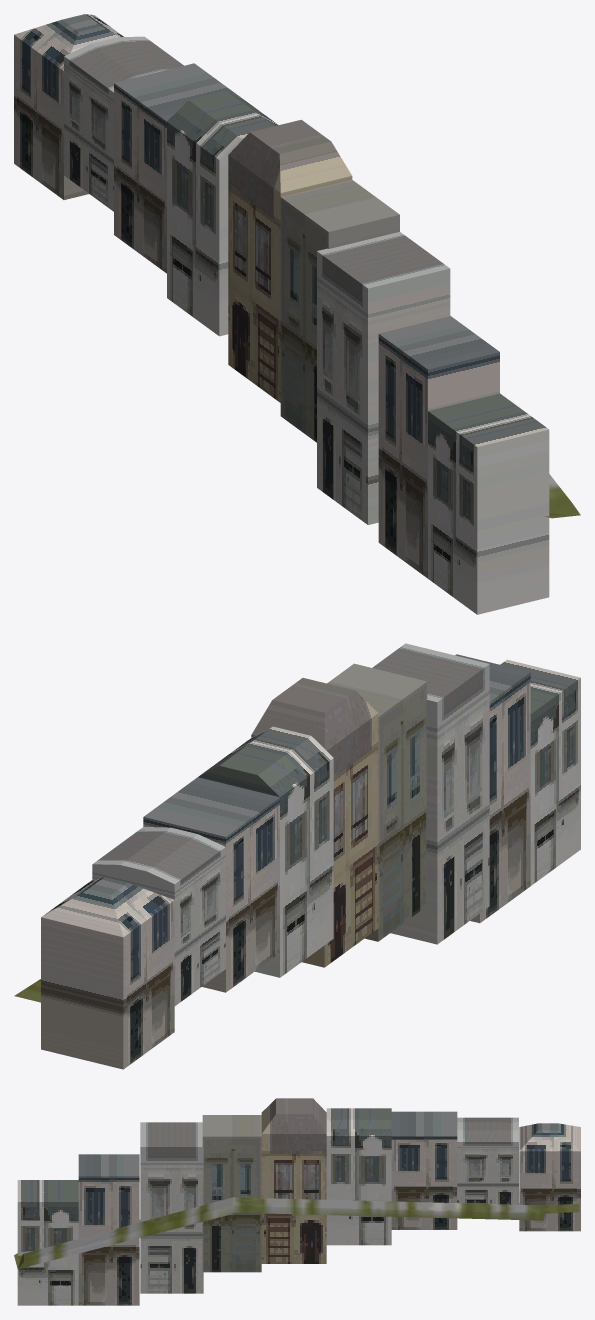
File: lodxbld4_sfw72.obj
The picture shows the model from 3 angles, top to bottom: view 1: azimuth 30°, elevation 25°; view 2: azimuth 150°, elevation 25°; view 3: azimuth 270°, elevation 25°; orthographic projection. The views are drawn at different scales.
Visible parts, largest first — view 1: LODxbld4_sfw72; view 2: LODxbld4_sfw72; view 3: LODxbld4_sfw72.
Boxes of the visible parts, box(x1,y1,x2,y2) form: LODxbld4_sfw72: box(14, 14, 580, 614); LODxbld4_sfw72: box(14, 643, 580, 1069); LODxbld4_sfw72: box(14, 1098, 580, 1305).
Bounding box in the file's own units: 11.18 × 27.89 × 75.85.
Materials: 7 (7 with a texture image).
